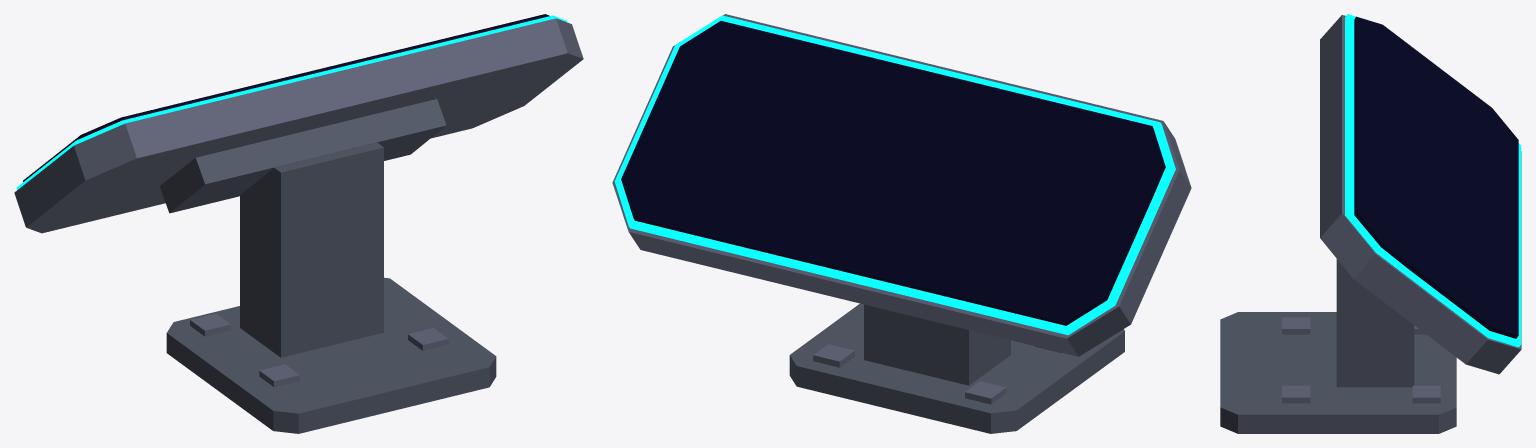
Rendered from nav_panel_low_3.glb.
3 views of the same model, side by side, from view 1: azimuth 30°, elevation 25°; view 2: azimuth 150°, elevation 25°; view 3: azimuth 270°, elevation 25° (orthographic). The views are drawn at different scales.
Parts seen in each view (by area): view 1: single-piece low-poly chamfered console body.015, central rectangular pedestal support.006, chamfered floor mounting plate.004, angled top mounting bracket.004, single-piece low-poly chamfered console body.014, single-piece low-poly chamfered console body.013, low-poly bolt pad -1,-1.004, low-poly bolt pad -1,1.004, low-poly bolt pad 1,-1.004; view 2: single-piece low-poly chamfered console body.013, chamfered floor mounting plate.004, single-piece low-poly chamfered console body.015, single-piece low-poly chamfered console body.014, central rectangular pedestal support.006, low-poly bolt pad 1,1.004, low-poly bolt pad -1,1.004; view 3: single-piece low-poly chamfered console body.013, chamfered floor mounting plate.004, single-piece low-poly chamfered console body.015, central rectangular pedestal support.006, single-piece low-poly chamfered console body.014, low-poly bolt pad 1,-1.004, low-poly bolt pad 1,1.004, low-poly bolt pad -1,-1.004.
Boxes of the visible parts, x1=… form: single-piece low-poly chamfered console body.015: x1=14, y1=18, x2=583, y2=233; central rectangular pedestal support.006: x1=240, y1=142, x2=383, y2=357; chamfered floor mounting plate.004: x1=166, y1=277, x2=496, y2=433; angled top mounting bracket.004: x1=159, y1=99, x2=446, y2=213; single-piece low-poly chamfered console body.014: x1=16, y1=15, x2=566, y2=189; single-piece low-poly chamfered console body.013: x1=23, y1=14, x2=549, y2=181; low-poly bolt pad -1,-1.004: x1=259, y1=364, x2=299, y2=387; low-poly bolt pad -1,1.004: x1=190, y1=313, x2=230, y2=336; low-poly bolt pad 1,-1.004: x1=408, y1=328, x2=448, y2=350; single-piece low-poly chamfered console body.013: x1=621, y1=21, x2=1165, y2=325; chamfered floor mounting plate.004: x1=789, y1=303, x2=1124, y2=433; single-piece low-poly chamfered console body.015: x1=612, y1=14, x2=1191, y2=356; single-piece low-poly chamfered console body.014: x1=614, y1=15, x2=1175, y2=335; central rectangular pedestal support.006: x1=864, y1=304, x2=1010, y2=385; low-poly bolt pad 1,1.004: x1=813, y1=344, x2=854, y2=367; low-poly bolt pad -1,1.004: x1=965, y1=381, x2=1006, y2=404; single-piece low-poly chamfered console body.013: x1=1354, y1=16, x2=1518, y2=338; chamfered floor mounting plate.004: x1=1220, y1=312, x2=1456, y2=433; single-piece low-poly chamfered console body.015: x1=1320, y1=15, x2=1521, y2=374; central rectangular pedestal support.006: x1=1336, y1=259, x2=1414, y2=387; single-piece low-poly chamfered console body.014: x1=1345, y1=14, x2=1521, y2=347; low-poly bolt pad 1,-1.004: x1=1282, y1=385, x2=1310, y2=403; low-poly bolt pad 1,1.004: x1=1412, y1=385, x2=1440, y2=403; low-poly bolt pad -1,-1.004: x1=1282, y1=317, x2=1310, y2=334.
Size of the model in its own units: 3.08 by 1.72 by 1.71.
